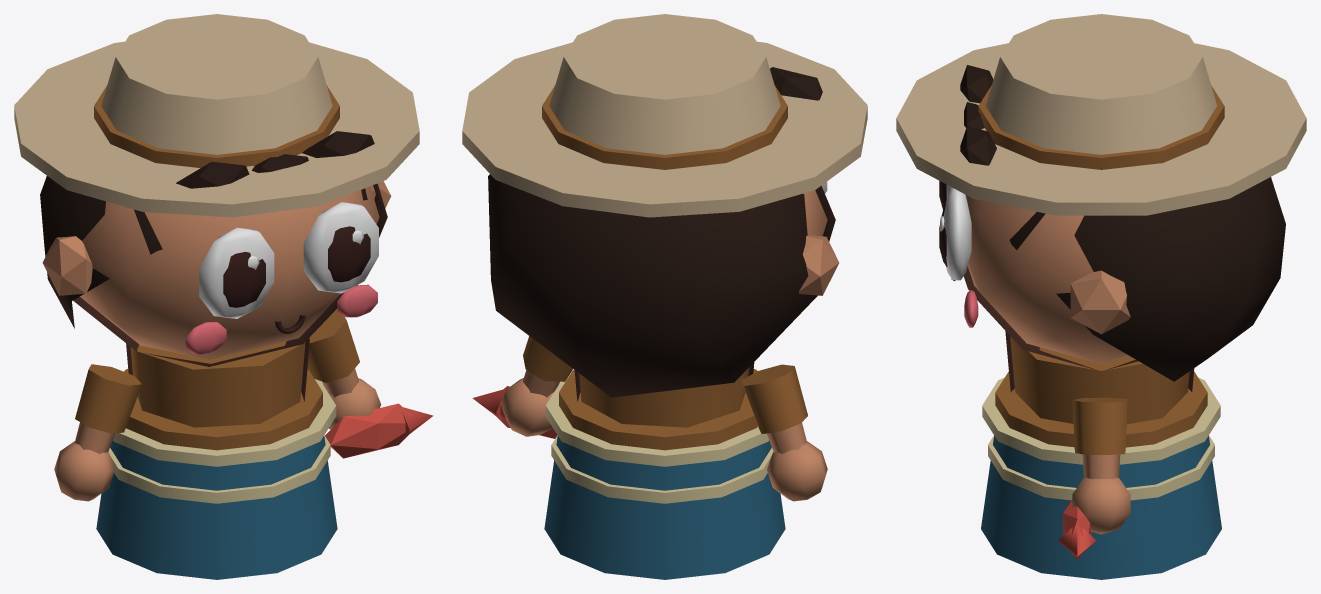
Rendered from npc_udin.glb.
3 views of the same model, side by side, from view 1: azimuth 30°, elevation 25°; view 2: azimuth 150°, elevation 25°; view 3: azimuth 270°, elevation 25° (orthographic).
Visible parts, largest first — view 1: head_mesh, npc_udin_mesh, arm_L_mesh, arm_R_mesh; view 2: head_mesh, npc_udin_mesh, arm_L_mesh, arm_R_mesh; view 3: head_mesh, npc_udin_mesh, arm_R_mesh.
Boxes of the visible parts, left/top/right/bottom form: head_mesh: left=14, top=14, right=419, bottom=366; npc_udin_mesh: left=96, top=338, right=433, bottom=579; arm_L_mesh: left=54, top=364, right=141, bottom=501; arm_R_mesh: left=307, top=309, right=381, bottom=429; head_mesh: left=462, top=14, right=867, bottom=397; npc_udin_mesh: left=472, top=362, right=785, bottom=579; arm_L_mesh: left=741, top=364, right=827, bottom=501; arm_R_mesh: left=500, top=336, right=572, bottom=436; head_mesh: left=896, top=14, right=1306, bottom=381; npc_udin_mesh: left=981, top=331, right=1221, bottom=579; arm_R_mesh: left=1072, top=397, right=1130, bottom=534.
Size of the model in its own units: 1.28 by 1.59 by 1.2.
